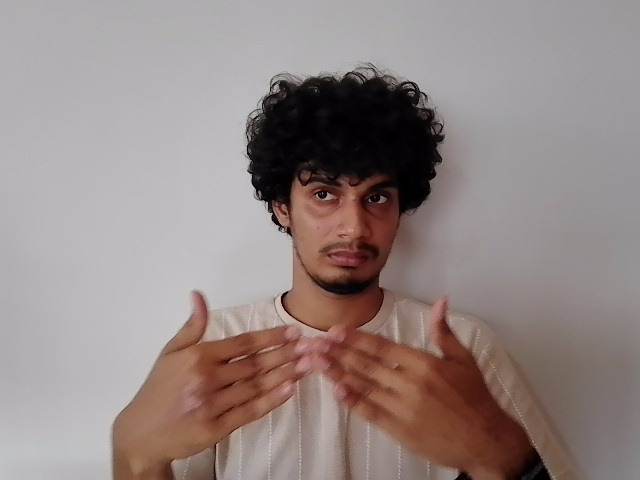family: (110, 289, 504, 471)
